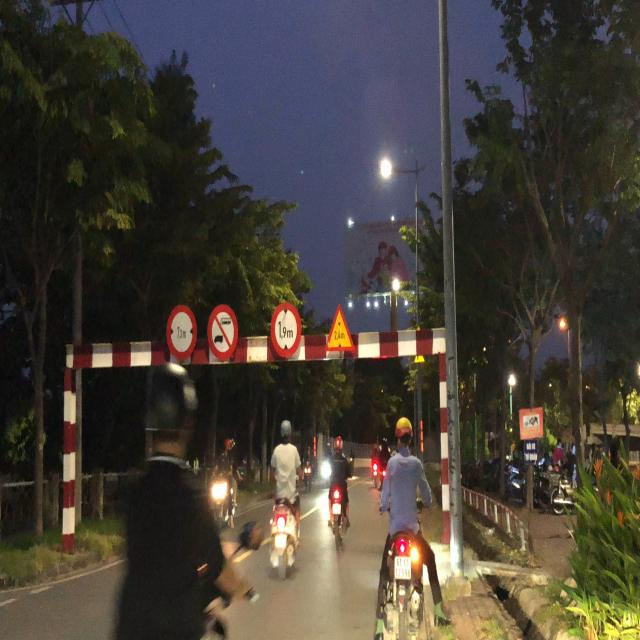Bien bao cam xe oto khach va xe oto tai: (207, 304, 241, 359)
Bien bao chieu cao tinh khong thuc te: (324, 300, 358, 358)
Bien bao han che chieu cao: (270, 299, 304, 362)
